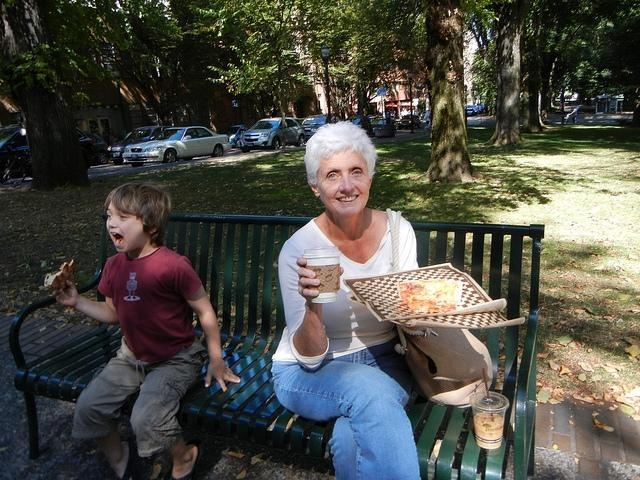car: (0, 125, 101, 178), (122, 123, 232, 168), (239, 116, 310, 153), (107, 125, 166, 164), (86, 132, 110, 164), (228, 124, 250, 148), (301, 114, 326, 132), (370, 118, 396, 134), (398, 114, 420, 130), (558, 99, 582, 113), (345, 117, 375, 127), (468, 105, 478, 115)
